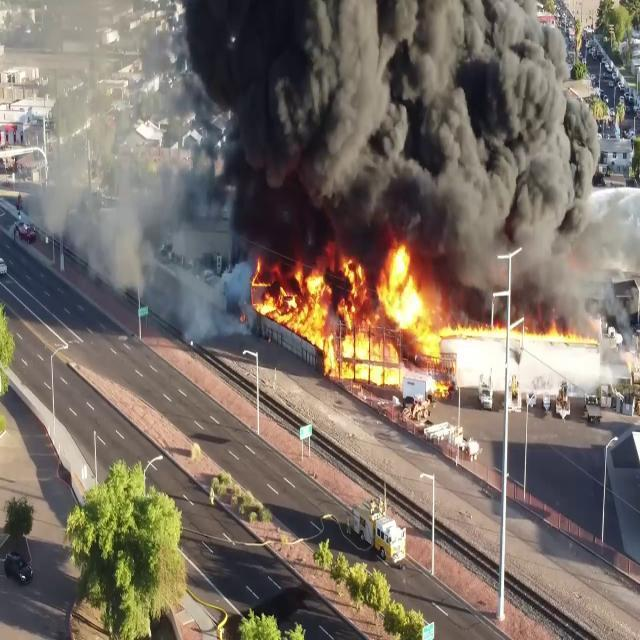Fire: (250, 240, 466, 394), (443, 318, 596, 354)
Smoke: (205, 0, 630, 296), (0, 2, 220, 329)
